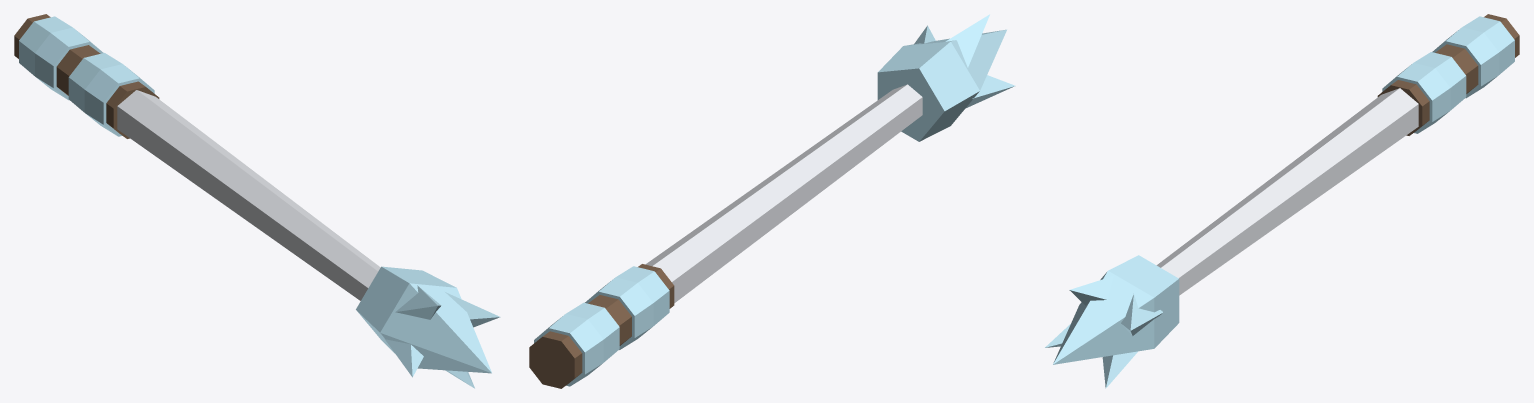
The model's file is iciclerod.glb.
3 renders of one model, left to right at view 1: azimuth 30°, elevation 25°; view 2: azimuth 150°, elevation 25°; view 3: azimuth 330°, elevation 25°, orthographic. The views are drawn at different scales.
Parts seen in each view (by area): view 1: iciclerod; view 2: iciclerod; view 3: iciclerod.
Boxes of the visible parts, x1,y1,x2,y2 form: iciclerod: (14,14,500,388); iciclerod: (529,14,1015,388); iciclerod: (1045,14,1519,388).
Size of the model in its own units: 0.0716 by 0.0716 by 0.64.
